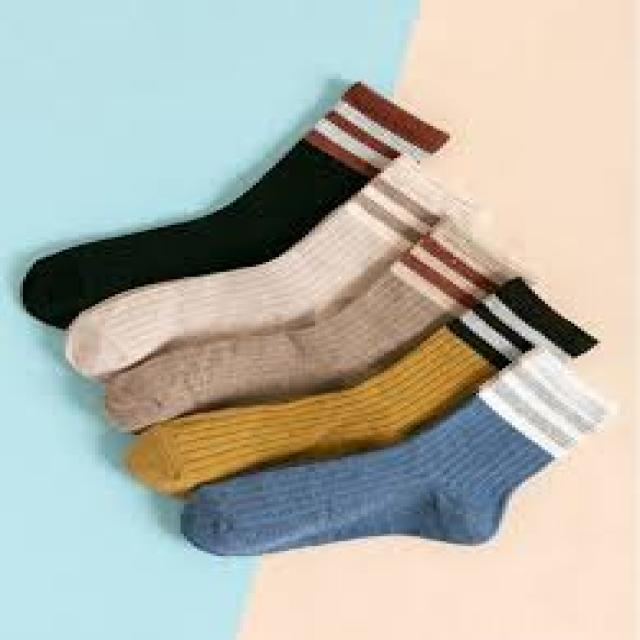sock: (17, 79, 450, 331)
